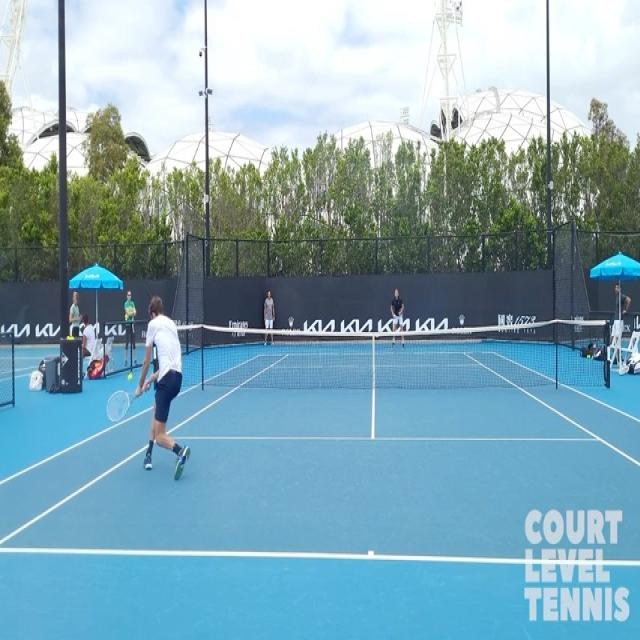backhand-stroke: (120, 264, 180, 521)
